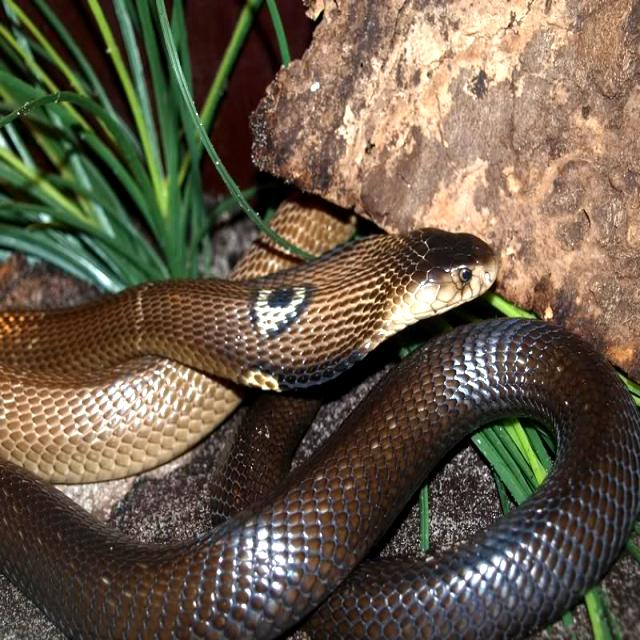Naja kaouthia: (0, 231, 639, 637)
